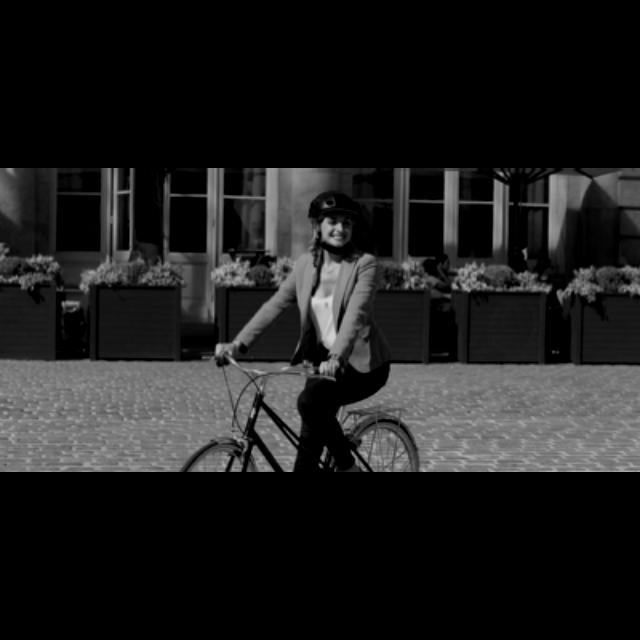With Helmet: (304, 187, 364, 249)
